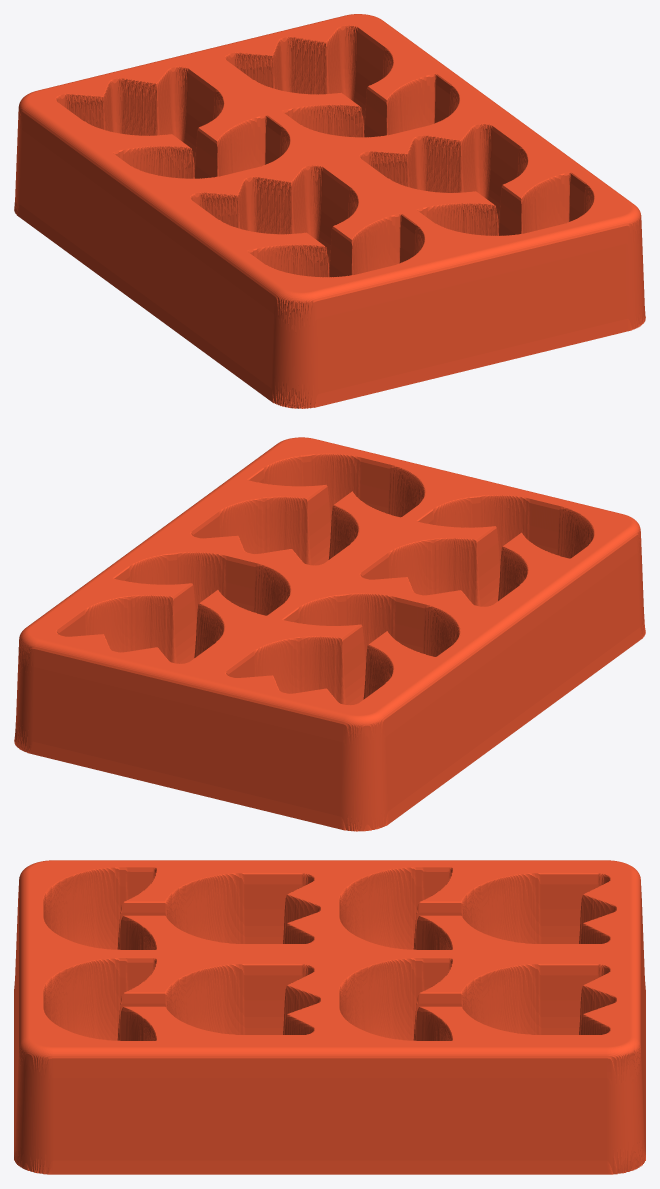
File: mold.glb
3 views of the same model, one above another, from view 1: azimuth 30°, elevation 25°; view 2: azimuth 150°, elevation 25°; view 3: azimuth 270°, elevation 25° (orthographic). The views are drawn at different scales.
Parts seen in each view (by area): view 1: geometry_0; view 2: geometry_0; view 3: geometry_0.
Part boxes in pixels (left/top/right/bottom): geometry_0: left=14, top=14, right=645, bottom=408; geometry_0: left=14, top=437, right=645, bottom=831; geometry_0: left=14, top=860, right=645, bottom=1174.
Size of the model in its own units: 0.1091 by 0.031 by 0.1466.
